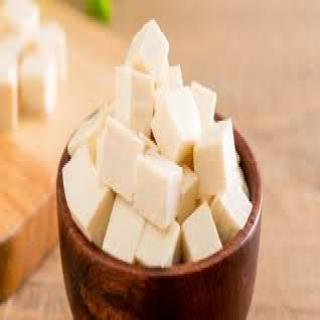Tahu: (60, 18, 264, 266)
